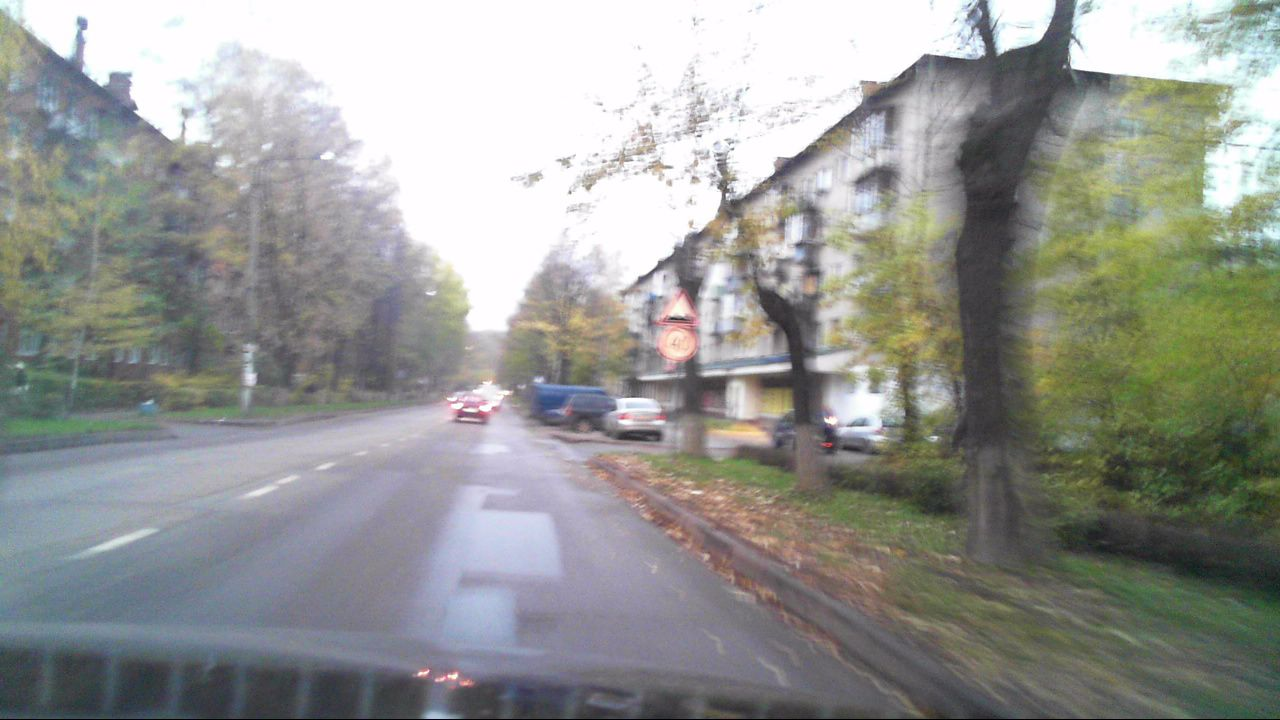speed_warning_40: (660, 326, 696, 359)
